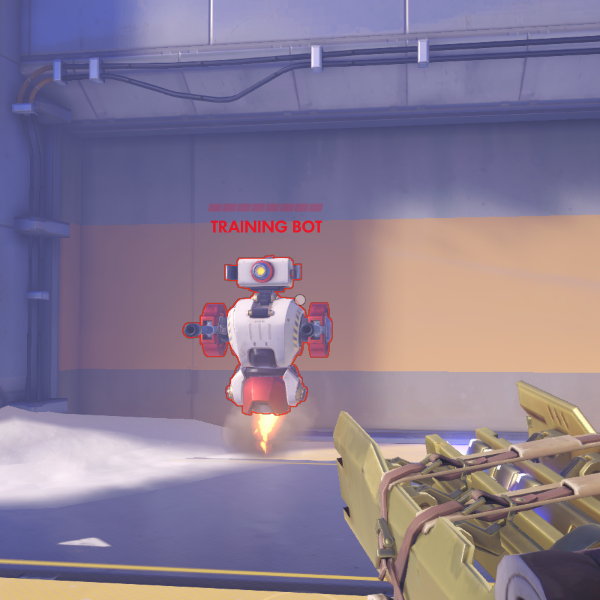hpbar: (207, 203, 324, 212)
